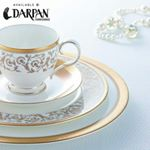cups: (1, 23, 84, 94)
